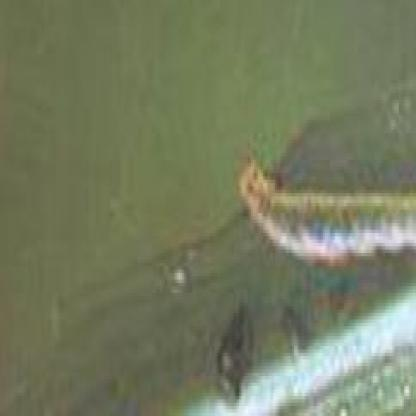leaf-folder: (236, 141, 416, 292)
